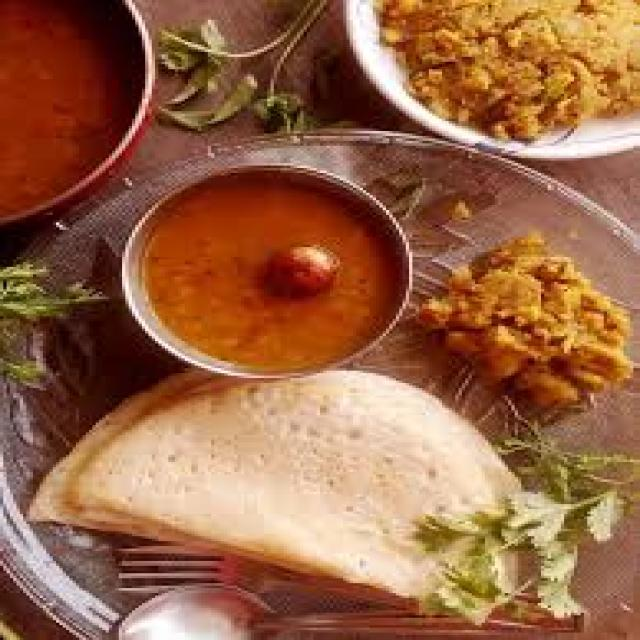DOSA: (29, 369, 528, 609)
